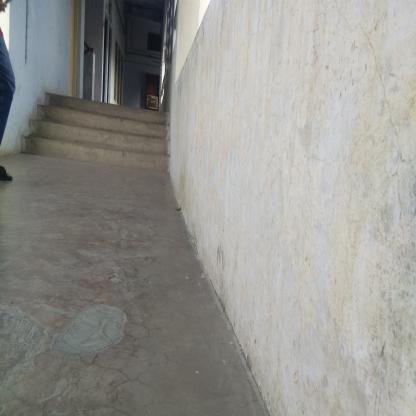stairs: (45, 94, 164, 174)
